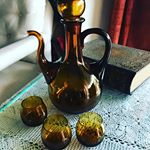cups: (38, 113, 73, 150), (75, 111, 107, 148), (18, 94, 52, 128)
